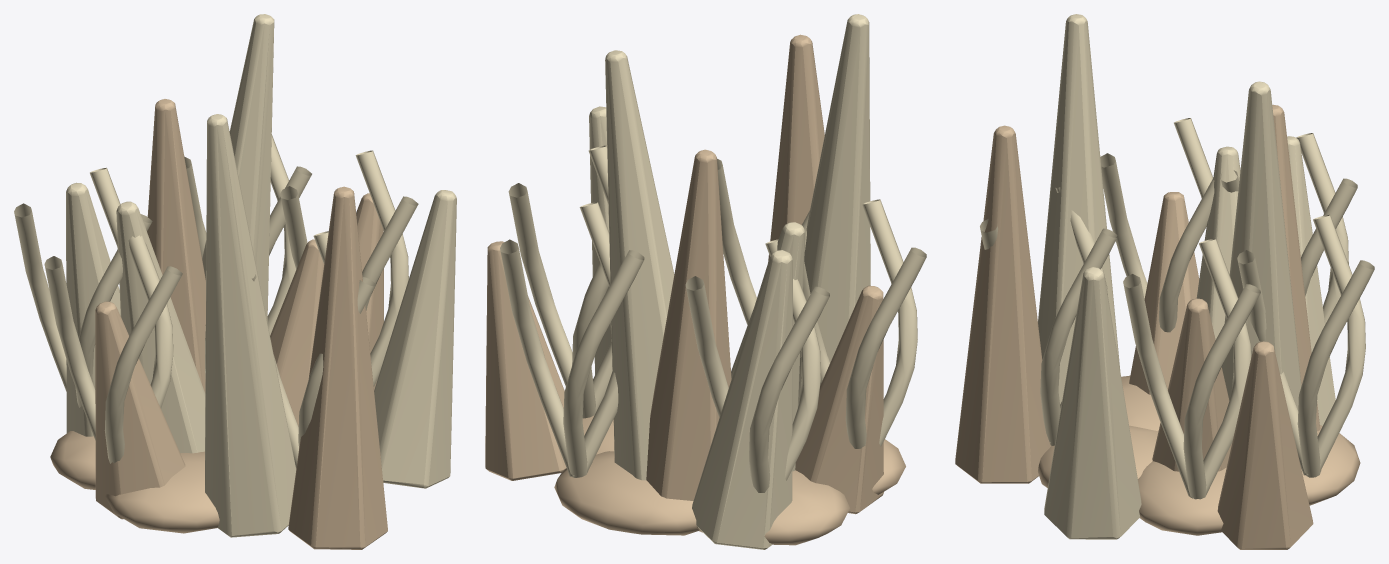
Rendered from bio_crystal_fan_09_far.glb.
3 renders of one model, left to right at view 1: azimuth 30°, elevation 25°; view 2: azimuth 150°, elevation 25°; view 3: azimuth 270°, elevation 25°, orthographic. The views are drawn at different scales.
Parts seen in each view (by area): view 1: Reflecting mineral prism.007, Reflecting mineral prism.002, Reflecting mineral prism.005, Spiral filament.012, Reflecting mineral prism.004, Reflecting mineral prism.006, Reflecting mineral prism.003, Reflecting mineral prism.009, Mineral substrate, Spiral filament, Spiral filament.003, Reflecting mineral prism.001 (+4 smaller); view 2: Reflecting mineral prism.003, Reflecting mineral prism.006, Reflecting mineral prism.001, Reflecting mineral prism.007, Mineral substrate, Spiral filament.009, Reflecting mineral prism.008, Reflecting mineral prism.004, Spiral filament.003, Spiral filament.012, Reflecting mineral prism.002, Spiral filament (+3 smaller); view 3: Reflecting mineral prism.002, Reflecting mineral prism.005, Reflecting mineral prism.007, Reflecting mineral prism.008, Spiral filament, Reflecting mineral prism.003, Spiral filament.009, Mineral substrate, Spiral filament.012, Reflecting mineral prism, Reflecting mineral prism.004, Spiral filament.006 (+4 smaller).
Part boxes in pixels (box(x1,y1,x2,y2)): Reflecting mineral prism.007: box(205, 114, 296, 537); Reflecting mineral prism.002: box(288, 186, 387, 549); Reflecting mineral prism.005: box(374, 190, 456, 488); Spiral filament.012: box(44, 235, 182, 463); Reflecting mineral prism.004: box(95, 301, 185, 519); Reflecting mineral prism.006: box(147, 99, 205, 392); Reflecting mineral prism.003: box(202, 14, 274, 378); Reflecting mineral prism.009: box(116, 201, 205, 453); Mineral substrate: box(50, 431, 383, 533); Spiral filament: box(280, 150, 418, 386); Spiral filament.003: box(14, 167, 152, 407); Reflecting mineral prism.001: box(66, 182, 120, 436); Reflecting mineral prism.003: box(605, 50, 674, 480); Reflecting mineral prism.006: box(646, 149, 731, 500); Reflecting mineral prism.001: box(692, 250, 792, 549); Reflecting mineral prism.007: box(798, 14, 870, 407); Mineral substrate: box(554, 415, 905, 545); Spiral filament.009: box(500, 202, 644, 477); Reflecting mineral prism.008: box(485, 241, 566, 480); Reflecting mineral prism.004: box(795, 285, 883, 514); Spiral filament.003: box(685, 239, 829, 492); Spiral filament.012: box(803, 199, 926, 448); Reflecting mineral prism.002: box(768, 34, 824, 262); Spiral filament: box(508, 145, 612, 418); Reflecting mineral prism.002: box(955, 125, 1051, 483); Reflecting mineral prism.005: box(1044, 267, 1141, 539); Reflecting mineral prism.007: box(1038, 14, 1120, 404); Reflecting mineral prism.008: box(1217, 341, 1313, 549); Spiral filament: box(1123, 238, 1260, 499); Reflecting mineral prism.003: box(1222, 81, 1301, 410); Spiral filament.009: box(1237, 214, 1374, 477); Mineral substrate: box(1038, 375, 1360, 535); Spiral filament.012: box(1100, 118, 1214, 332); Reflecting mineral prism: box(1152, 298, 1232, 471); Reflecting mineral prism.004: box(1129, 192, 1199, 394); Spiral filament.006: box(980, 187, 1117, 445).
Size of the model in its own units: 1.66 by 1.79 by 1.6.
